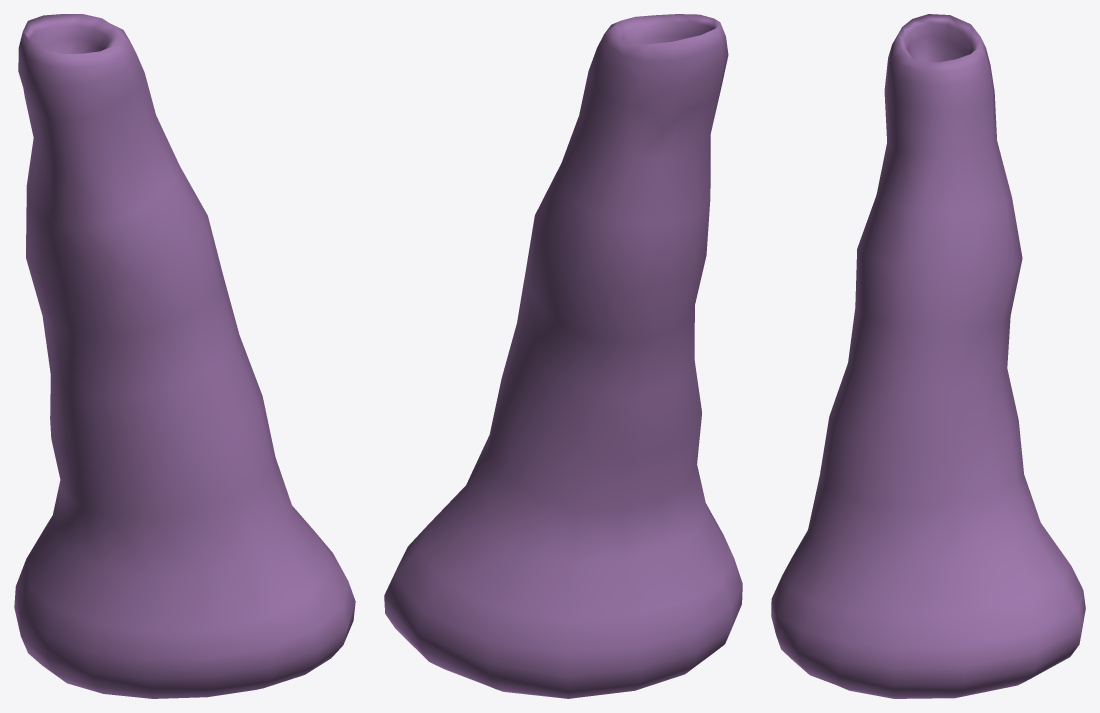
3 renders of one model, left to right at view 1: azimuth 30°, elevation 25°; view 2: azimuth 150°, elevation 25°; view 3: azimuth 270°, elevation 25°, orthographic. The views are drawn at different scales.
Visible parts, largest first — view 1: coral_tube_2_retop; view 2: coral_tube_2_retop; view 3: coral_tube_2_retop.
Part boxes in pixels (<box>): coral_tube_2_retop: <box>14,14,355,698</box>; coral_tube_2_retop: <box>384,14,742,698</box>; coral_tube_2_retop: <box>771,14,1085,698</box>.
Size of the model in its own units: 43.62 by 90.45 by 44.42.
